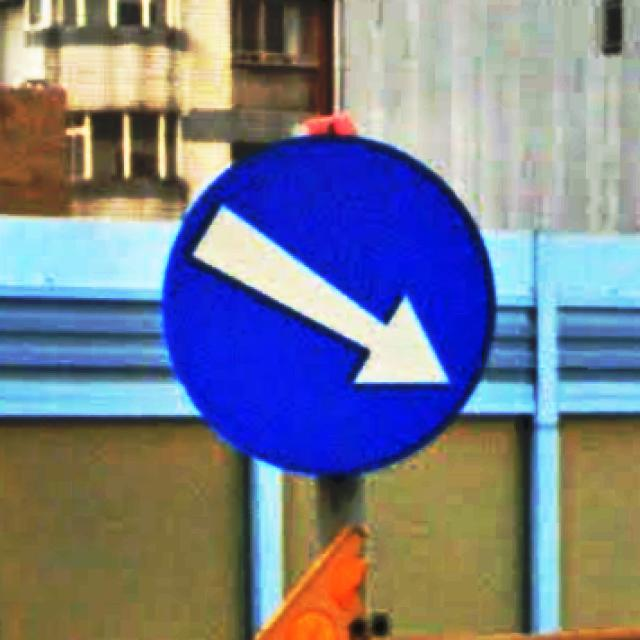thisway: (156, 128, 500, 481)
